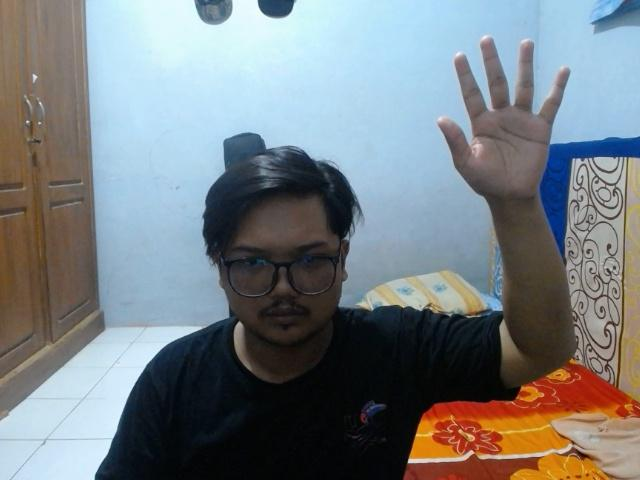Release: (430, 27, 576, 213)
